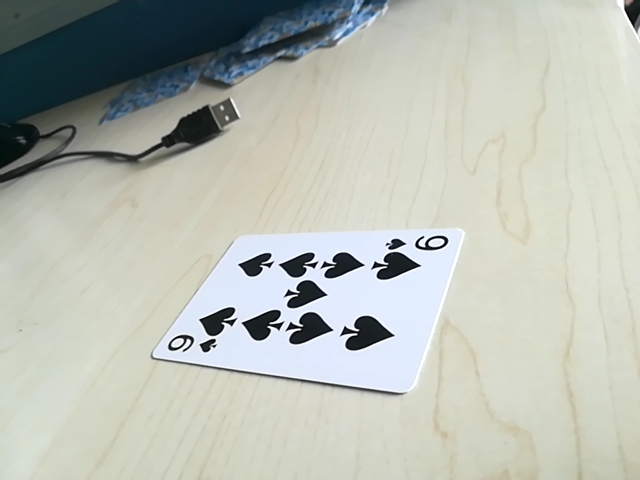ht 9: (387, 229, 453, 257), (157, 334, 217, 359)
